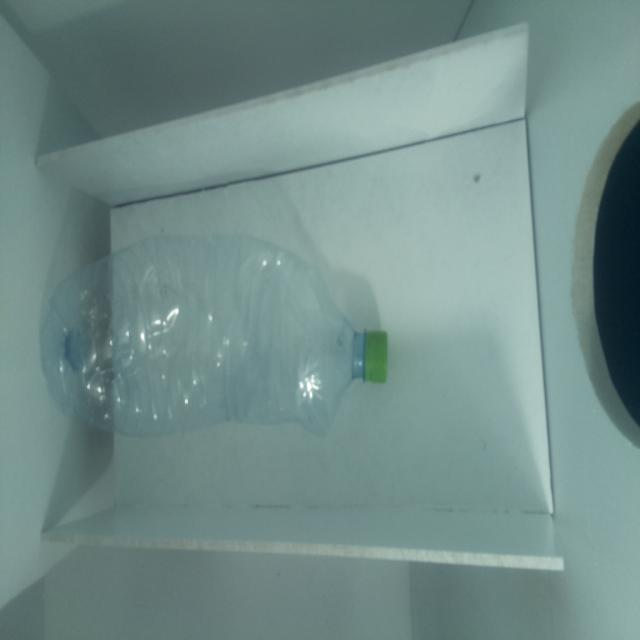Anorganik: (45, 242, 379, 432)
